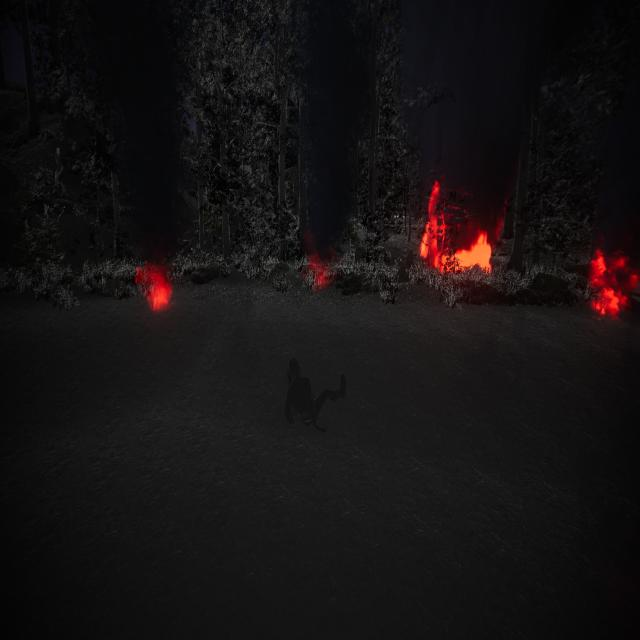Human: (277, 342, 353, 442)
